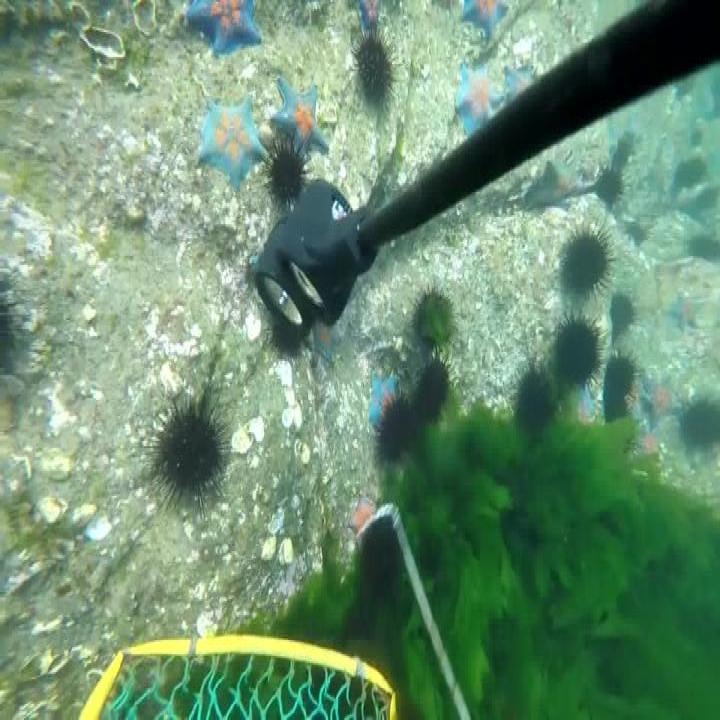echinus: (148, 400, 226, 519), (363, 524, 400, 604), (559, 314, 598, 386), (563, 233, 607, 295), (412, 352, 446, 432), (603, 361, 637, 437), (268, 138, 305, 204), (514, 364, 548, 432), (682, 395, 720, 453), (355, 38, 394, 94), (410, 294, 450, 342), (379, 403, 410, 457), (673, 151, 707, 197), (687, 229, 720, 267), (592, 167, 621, 206), (627, 217, 650, 254), (613, 295, 630, 334)
scallop: (232, 412, 269, 457), (75, 30, 129, 59), (130, 0, 159, 39), (276, 363, 300, 405), (64, 0, 95, 27), (279, 400, 302, 432), (243, 313, 262, 338), (295, 439, 311, 464), (281, 541, 293, 567)
starfish: (202, 96, 266, 187), (273, 75, 321, 158), (186, 0, 262, 52), (456, 71, 504, 139), (501, 60, 536, 115), (370, 373, 397, 441), (645, 374, 676, 428), (347, 490, 373, 548), (462, 0, 506, 32), (667, 292, 703, 327), (566, 384, 595, 425), (358, 0, 385, 27)
